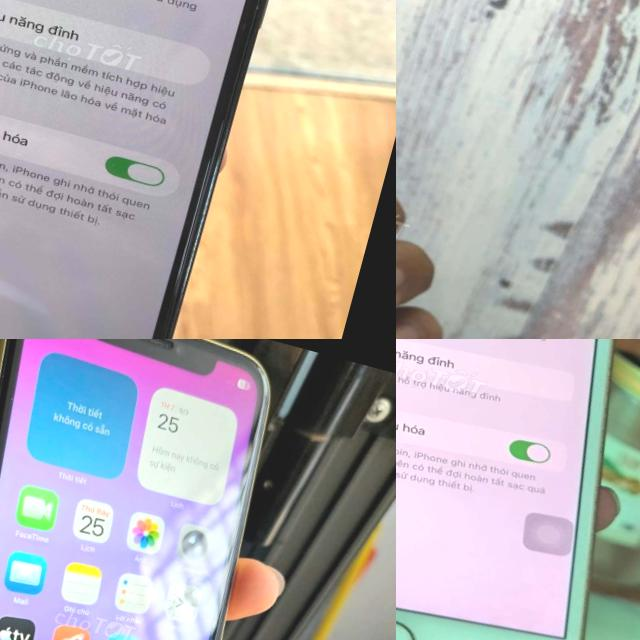gen_11: (0, 339, 313, 640)
gen_12_13: (0, 0, 333, 339)
gen_15: (396, 0, 624, 339)
gen_7_8: (396, 339, 640, 640)
